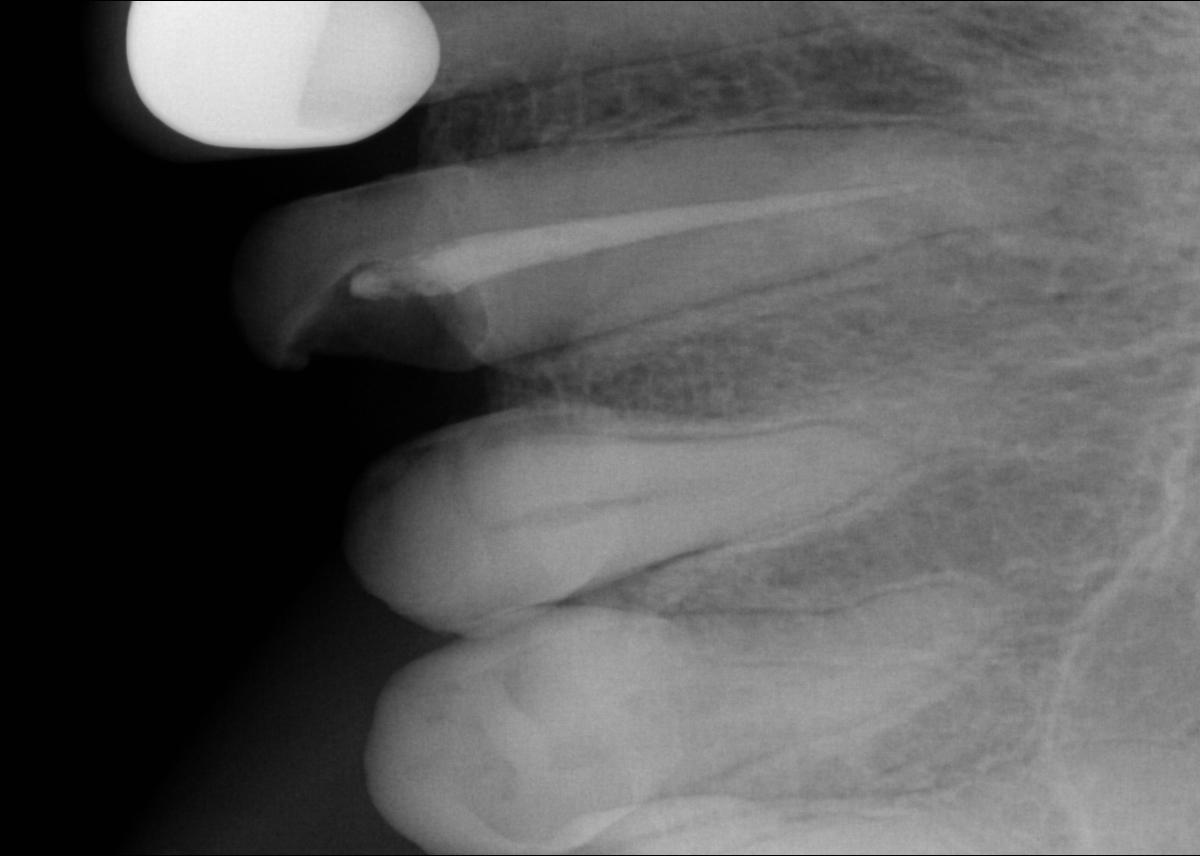Furcation Involvement: (985, 119, 1147, 242)
